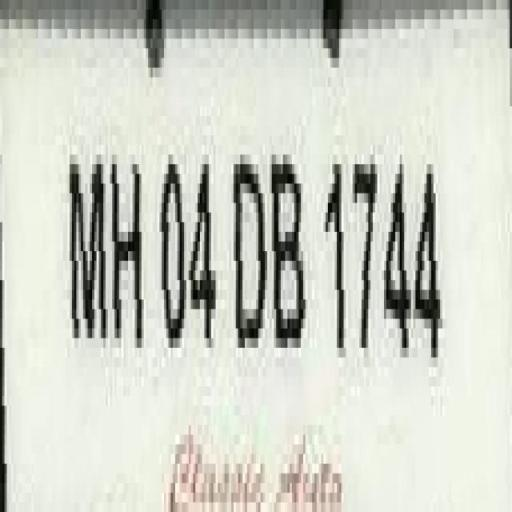number plate: (2, 10, 512, 492)
